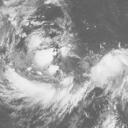cyclone: (23, 28, 82, 90)
